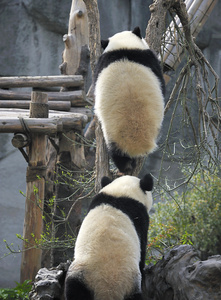panda: (64, 171, 157, 299), (88, 29, 171, 168)
